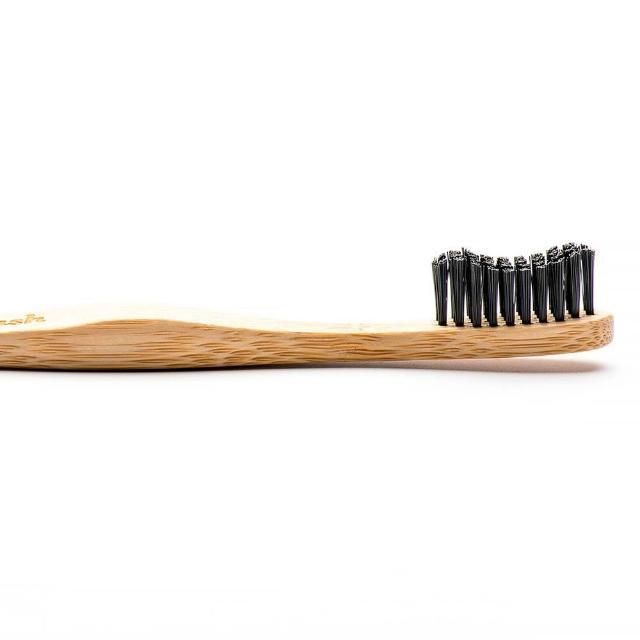toothbrush: (15, 173, 640, 467)
